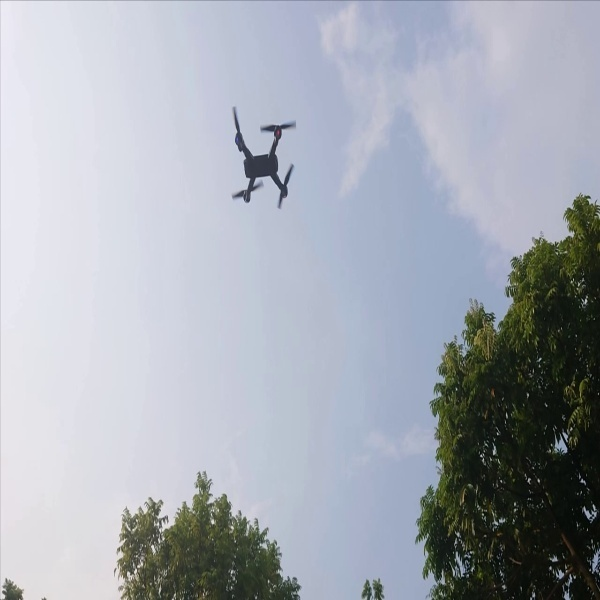drone: (225, 95, 301, 214)
